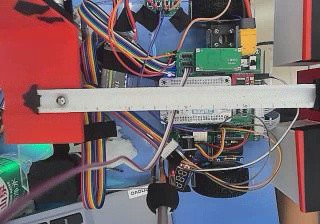ironball: (55, 94, 65, 104)
